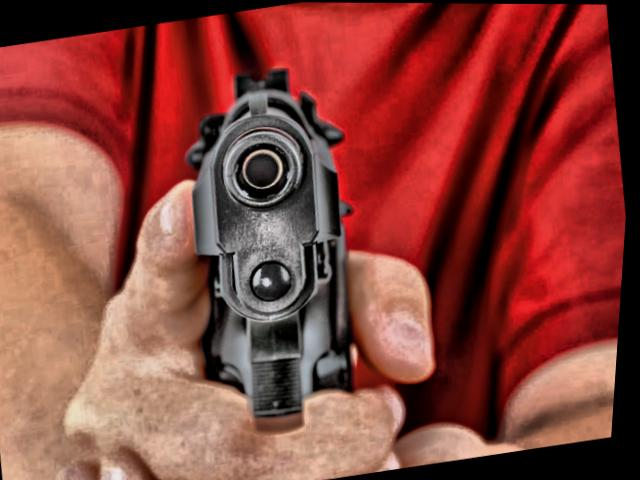pistol: (140, 27, 402, 445)
